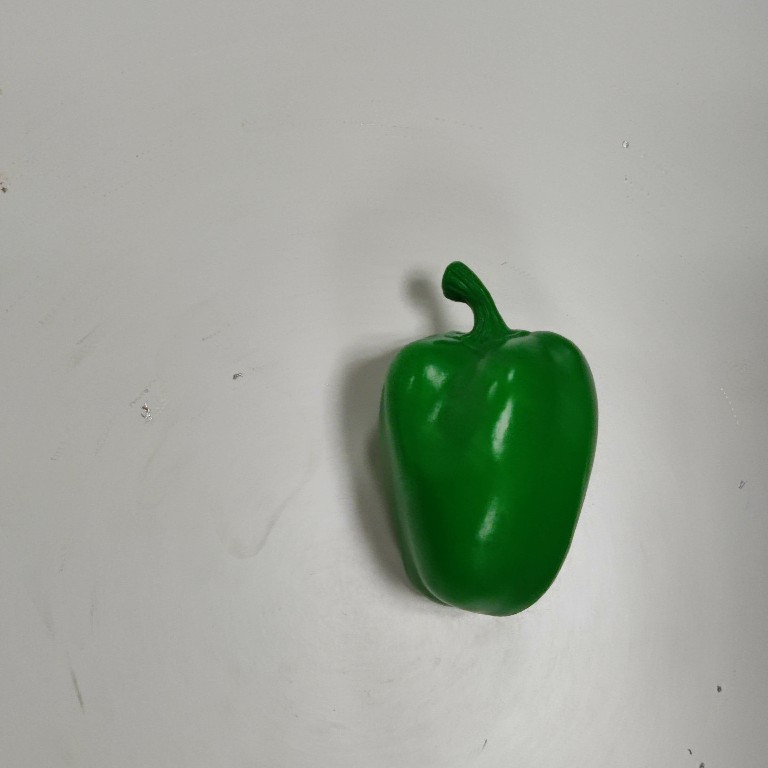fruit_pepper: (372, 257, 603, 622)
